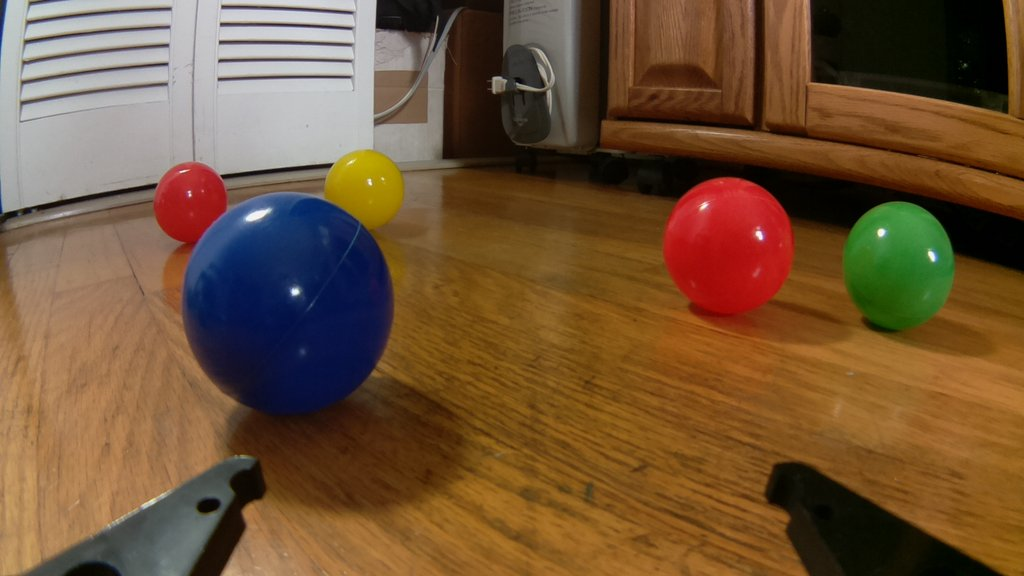ball: (154, 161, 228, 244)
